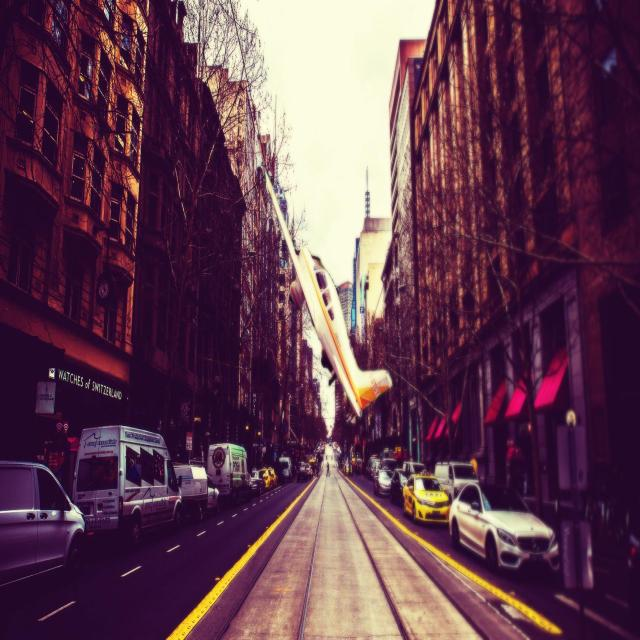airplane: (262, 166, 393, 420)
